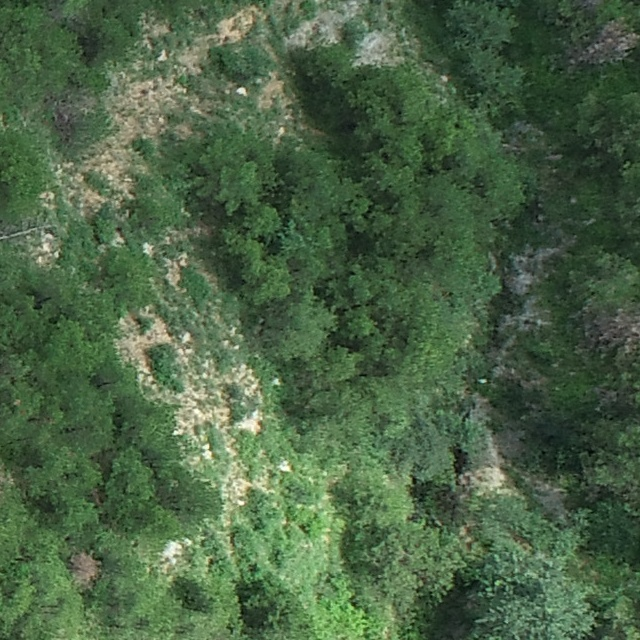unhealthy: (572, 17, 640, 66), (591, 303, 640, 349), (502, 117, 546, 150), (69, 548, 99, 587), (569, 0, 606, 12)
